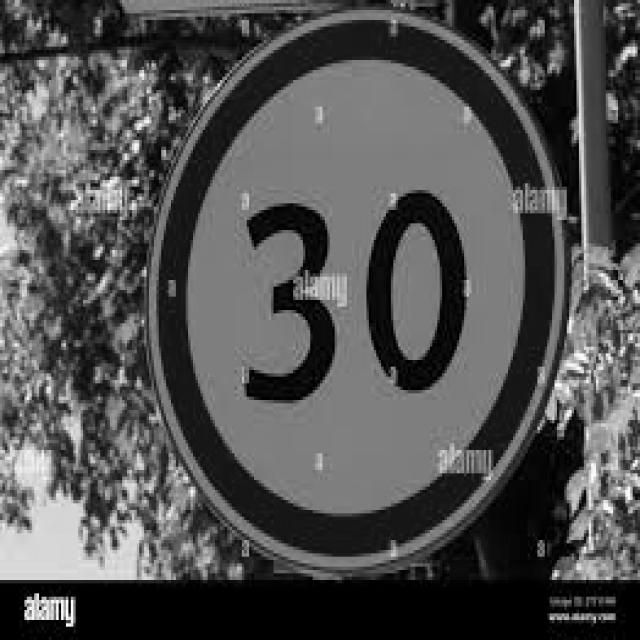speed_30: (149, 13, 572, 570)
